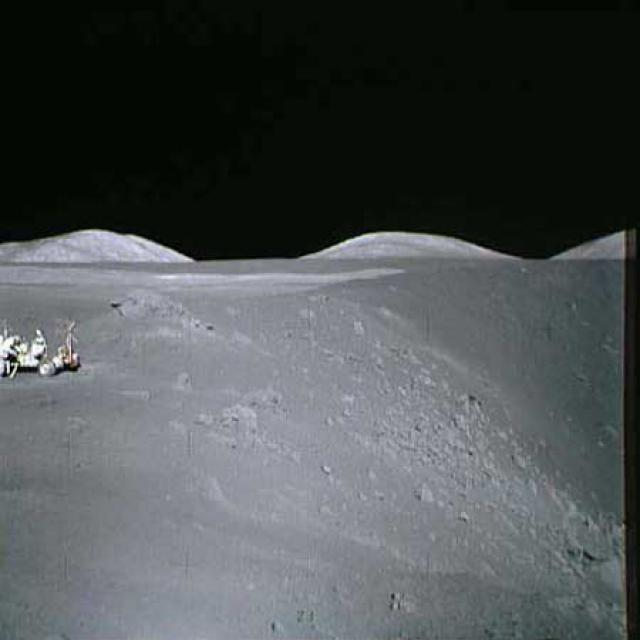artifact: (0, 316, 91, 379)
rock: (85, 278, 206, 334)
